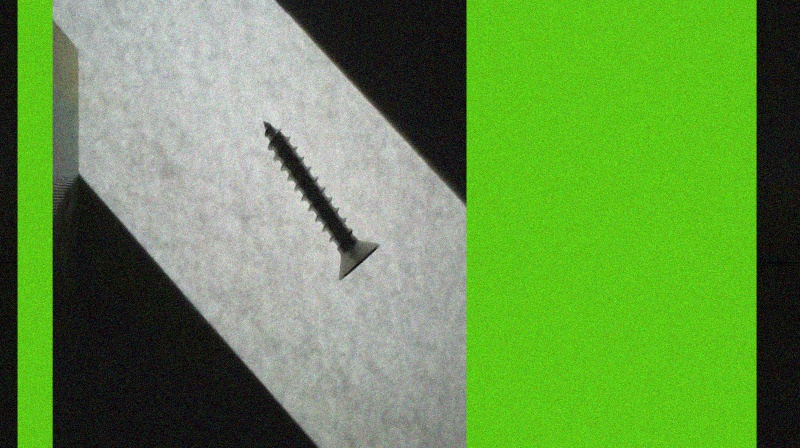S001: (258, 117, 379, 284)
